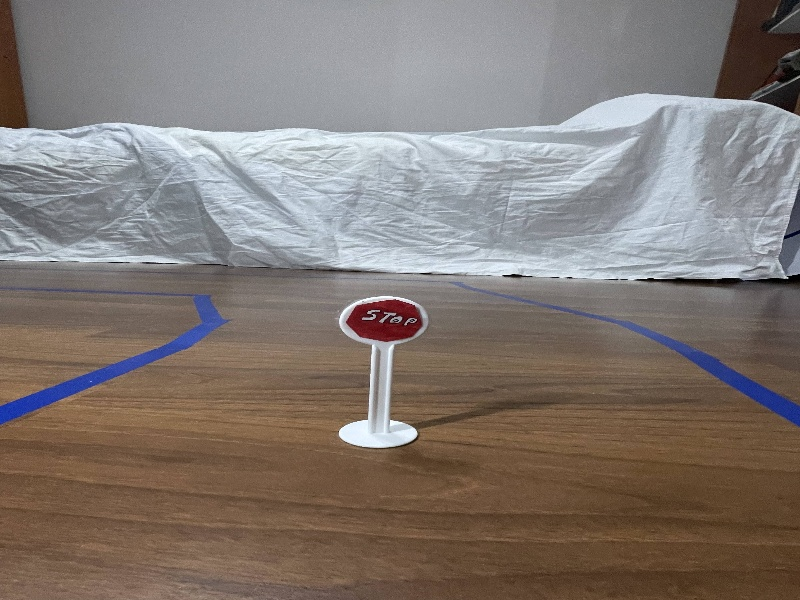stop: (325, 280, 439, 352)
